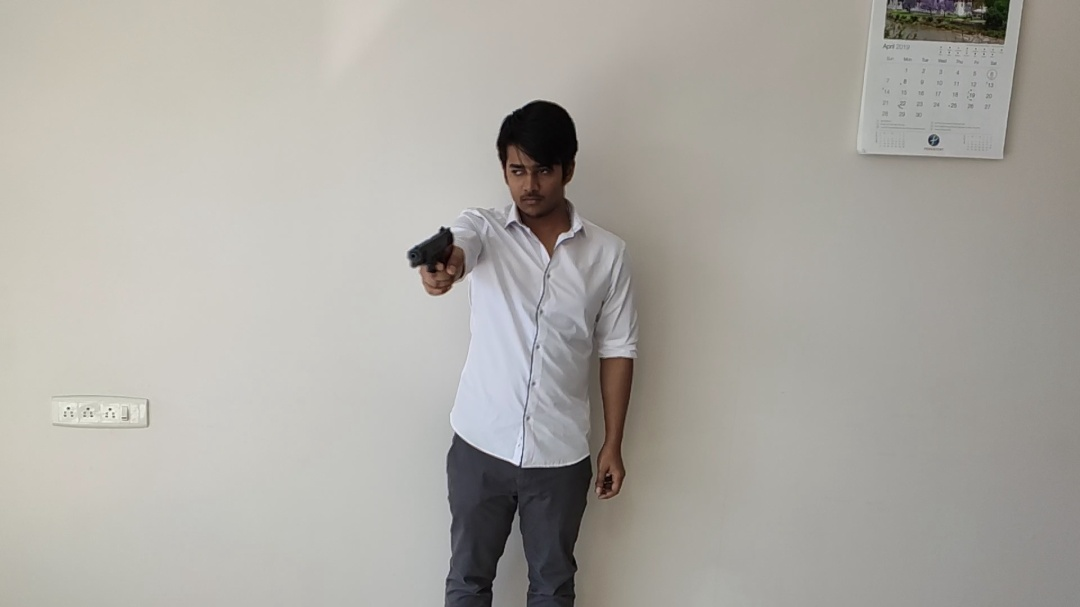gun: (406, 225, 455, 273)
